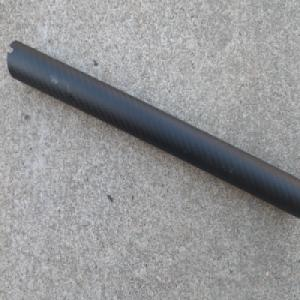LuggagePart: (5, 39, 300, 217)
